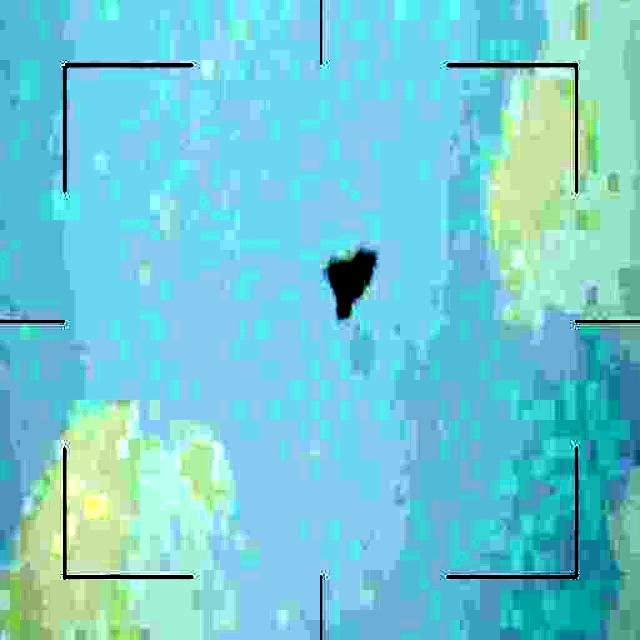bird: (320, 250, 372, 315)
